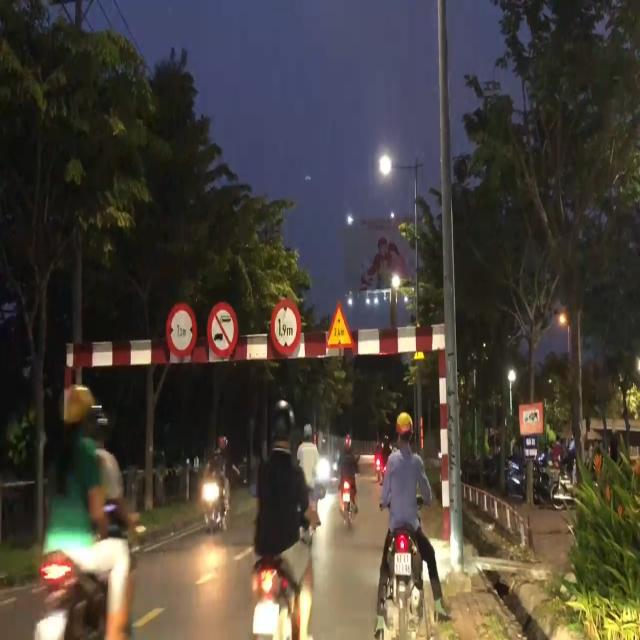Bien bao cam xe oto khach va xe oto tai: (205, 294, 241, 359)
Bien bao chieu cao tinh khong thuc te: (324, 296, 354, 356)
Bien bao han che chieu cao: (265, 286, 308, 361)
